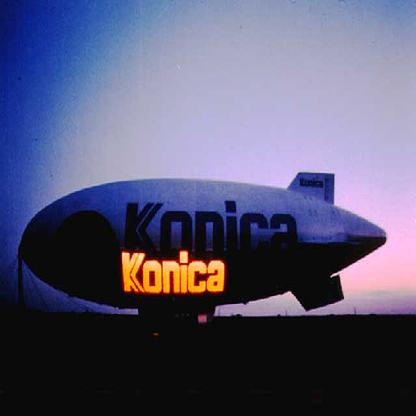Airship: (19, 172, 389, 314)
